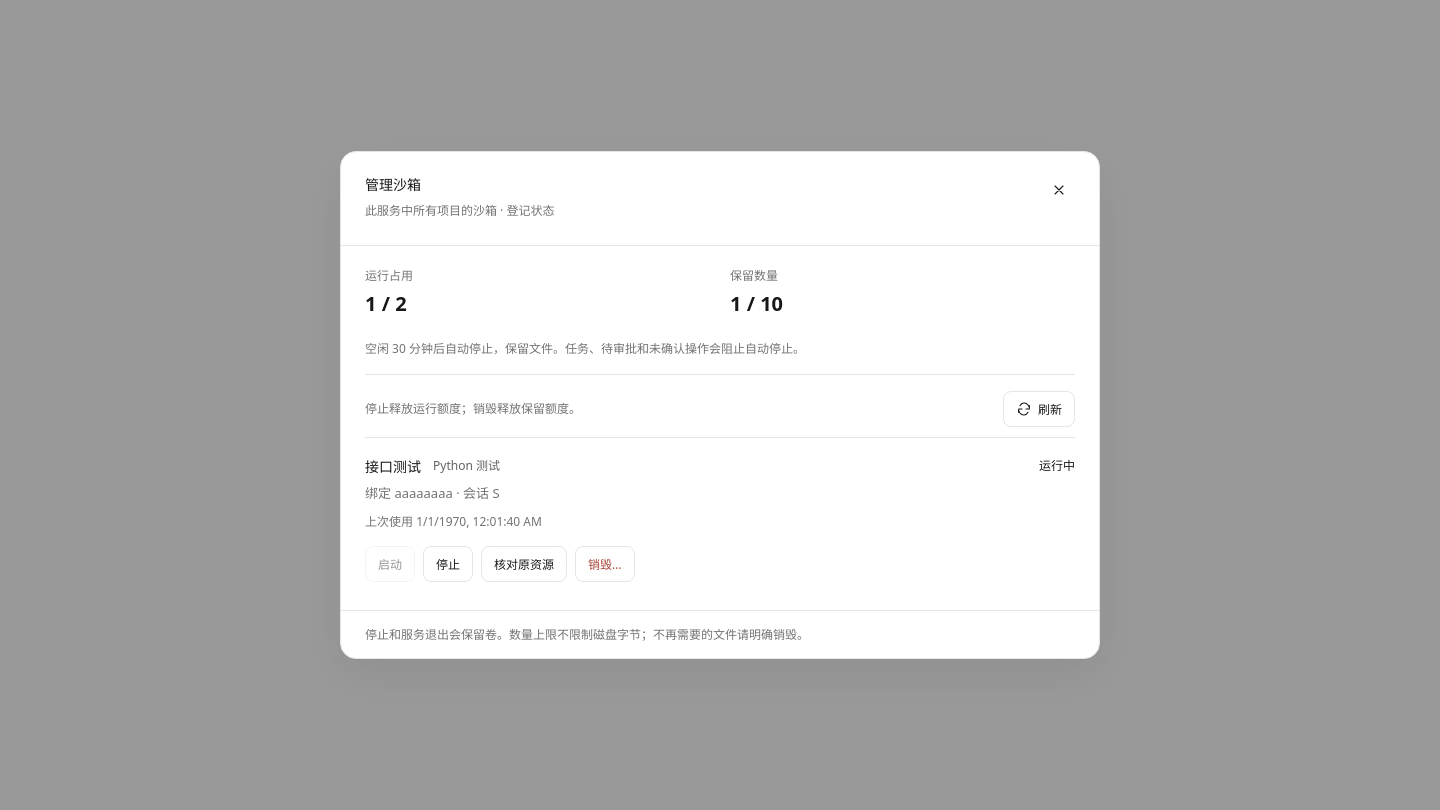
Test: restores focus to the dialog after an action disables its originating button
The width and height of the screenshot is (1440, 810).
Expected: the text "接口测试" is shown, [365,456,421,476]
What coordinates should you click on to do the following:
click the button "停止"
I would click on:
 (448, 564)
Its box is [423,546,473,582].
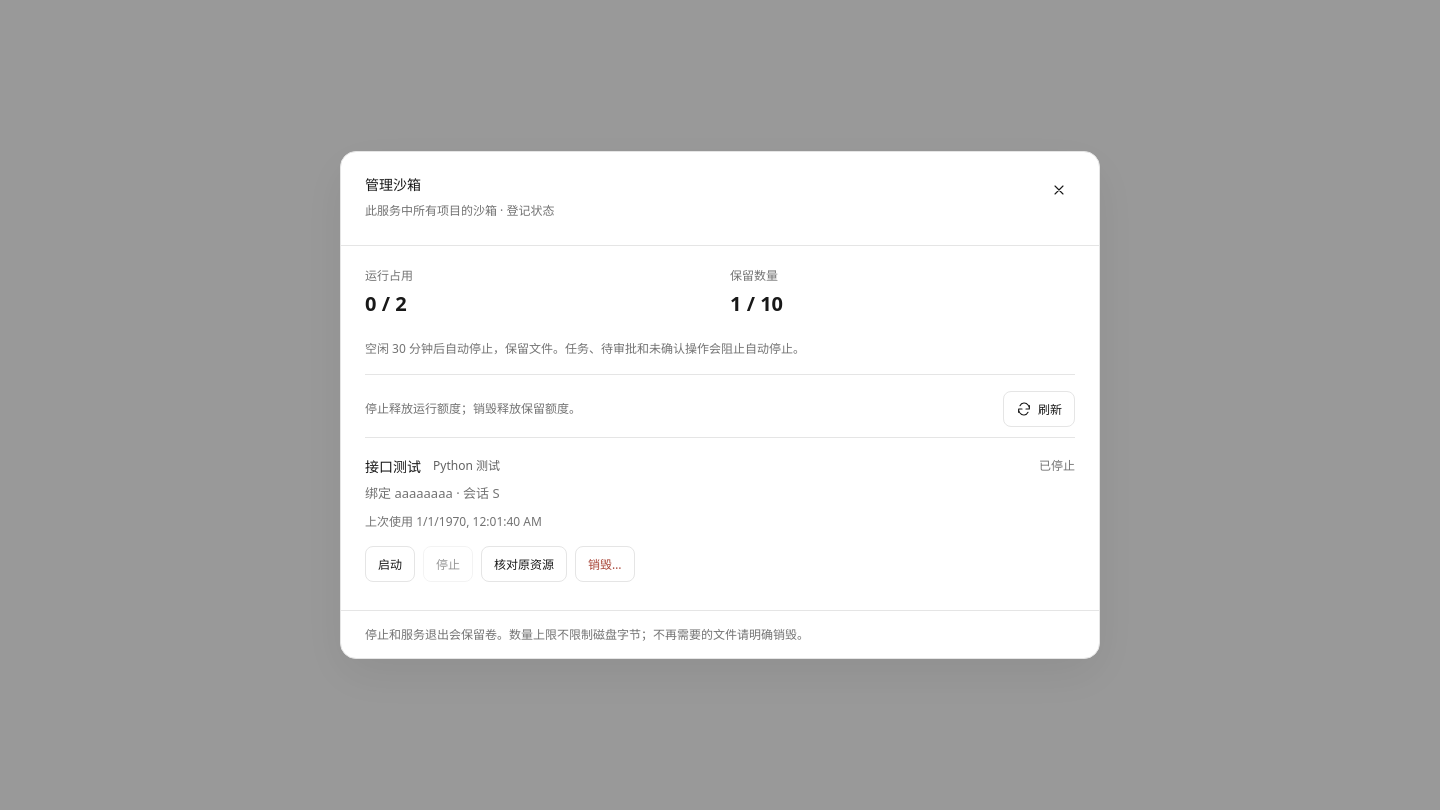
Result: the text "已停止" is shown at [1039,456,1075,474]
